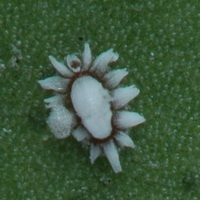insect: (38, 43, 144, 172)
